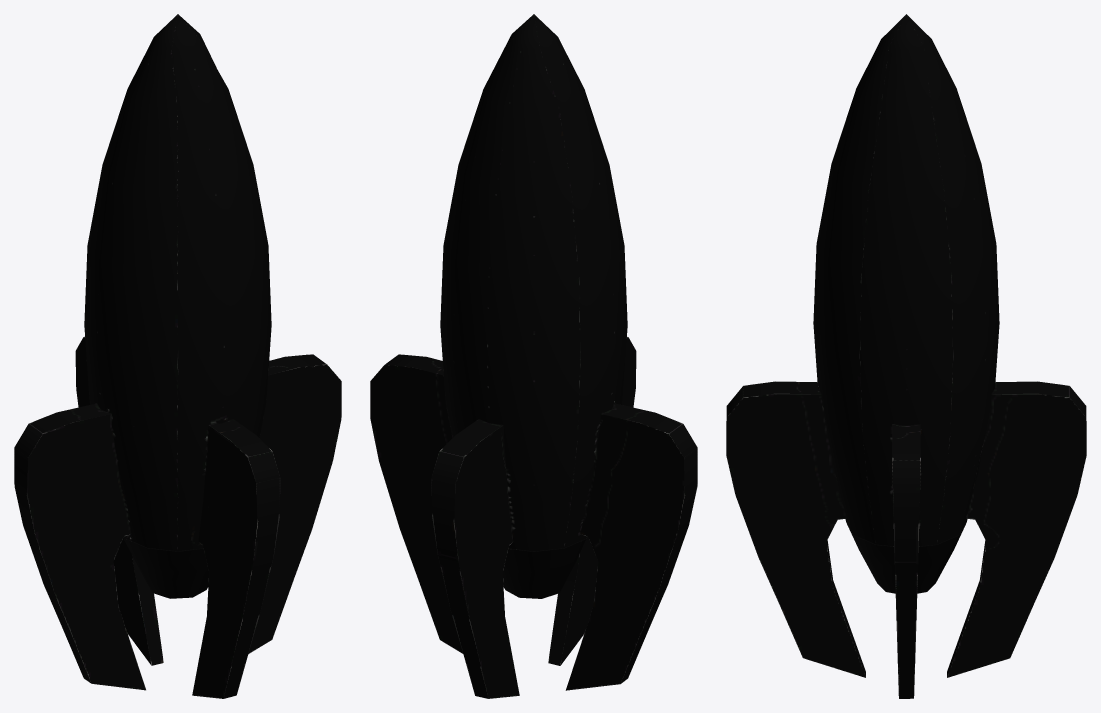
The model's file is rocket.fbx.
The picture shows the model from 3 angles, left to right: view 1: azimuth 30°, elevation 25°; view 2: azimuth 150°, elevation 25°; view 3: azimuth 270°, elevation 25°; orthographic projection.
Parts seen in each view (by area): view 1: node_id40 (×3); view 2: node_id40 (×3); view 3: node_id40 (×3).
Part boxes in pixels (bbox=[...]): node_id40 (×3): bbox=[14, 14, 341, 698]; node_id40 (×3): bbox=[370, 14, 697, 698]; node_id40 (×3): bbox=[726, 14, 1086, 698].
Size of the model in its own units: 0.253 by 0.512 by 0.253.
Materials: 3 (3 with a texture image).
